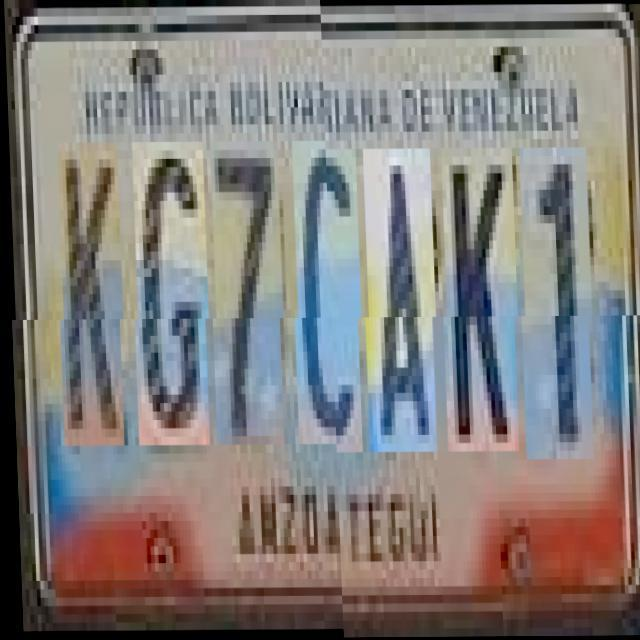1: (518, 148, 594, 460)
7: (209, 150, 285, 453)
A: (362, 149, 438, 452)
C: (291, 150, 363, 452)
G: (132, 150, 210, 454)
K: (440, 149, 519, 452), (57, 151, 125, 454)
